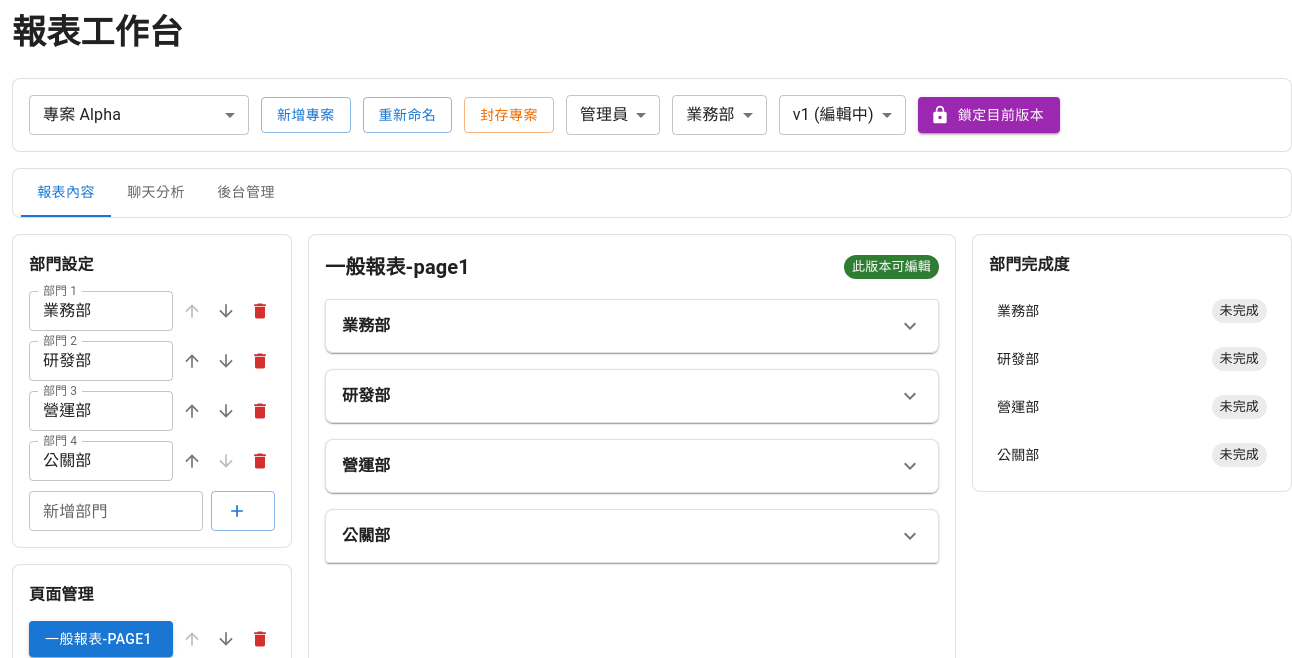
Scenario: ReportWorkspacePage backend management tab › allows admin to open and close sign-in, then disallows reopening normal sign-in
Click the tab "後台管理": (246, 193) left=201, top=169, right=291, bottom=217
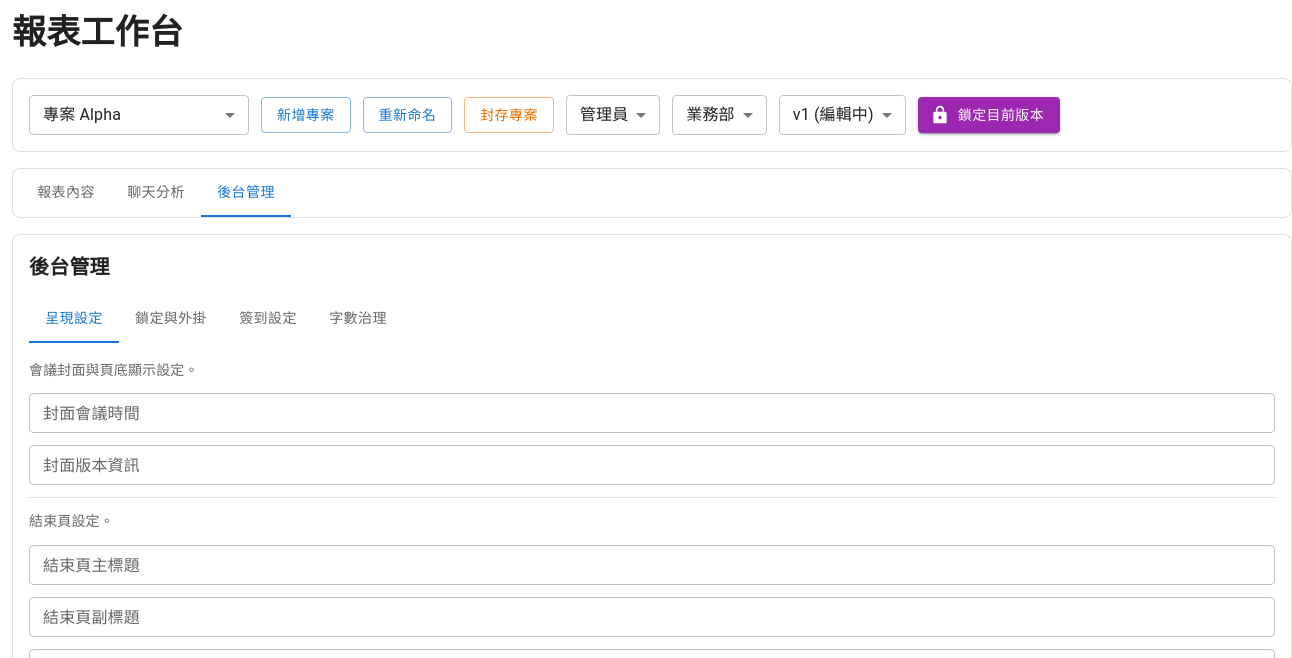
Click the tab "簽到設定": (268, 319) left=223, top=295, right=313, bottom=343
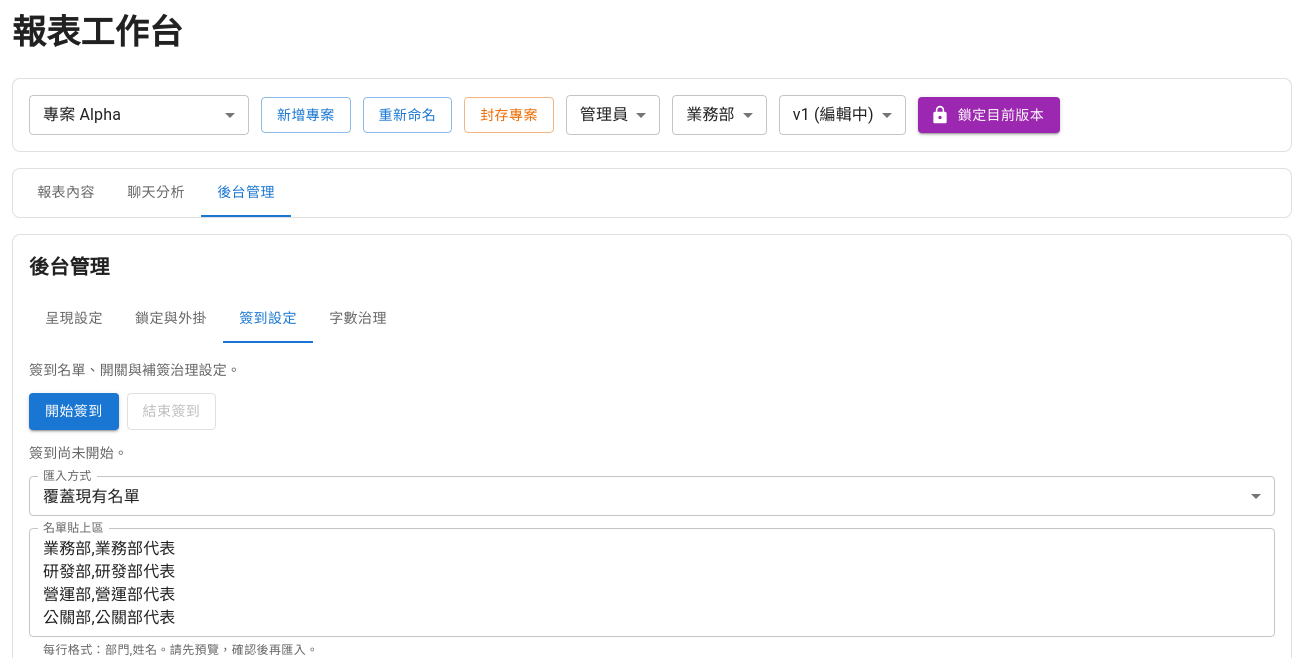
Click the button "開始簽到": (74, 412) left=29, top=393, right=119, bottom=430
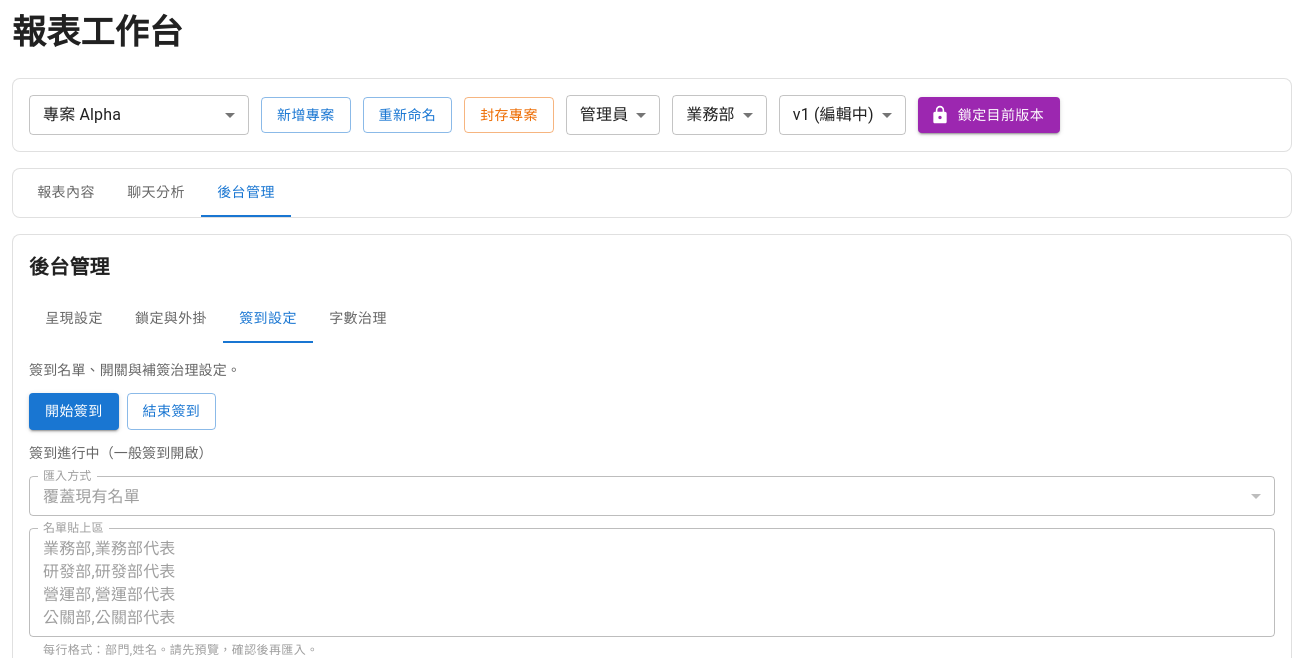
Expected: the text "簽到進行中（一般簽到開啟）" is shown, left=29, top=445, right=213, bottom=461
Click the button "結束簽到": (171, 412) left=127, top=393, right=216, bottom=430
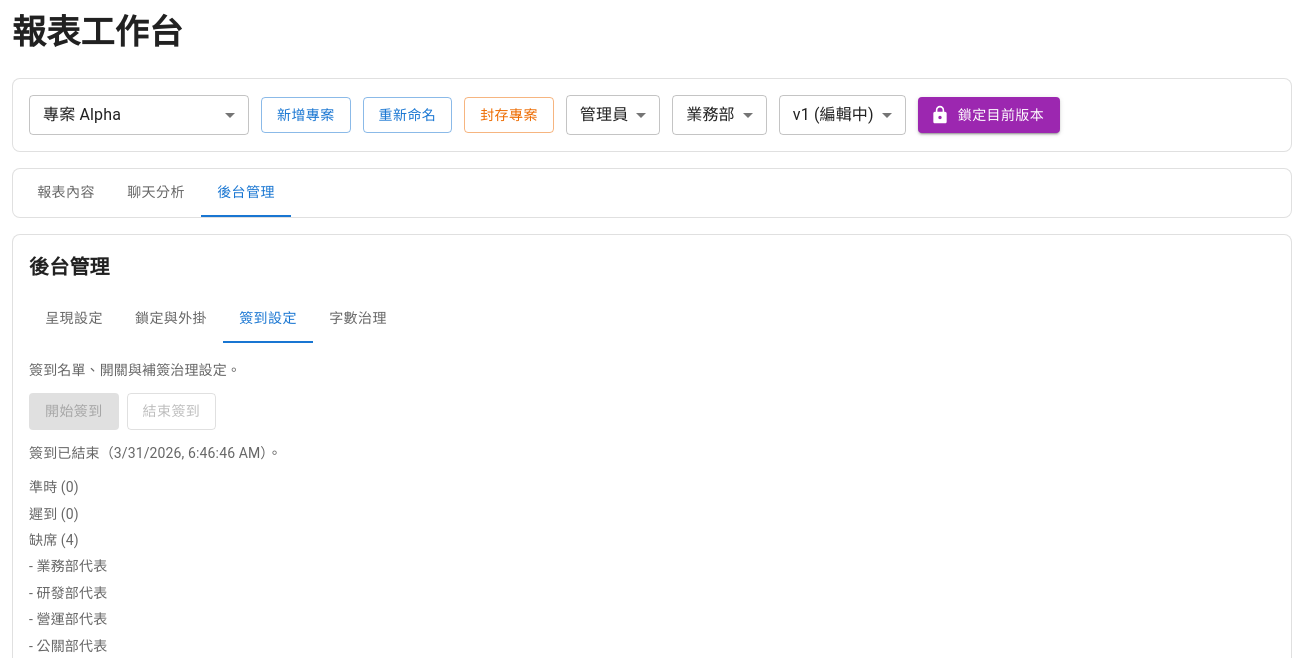
Expected: the text "簽到已結束（3/31/2026, 6:46:46 AM）。" is shown, left=29, top=445, right=282, bottom=461
Expected: the button "開始簽到" is disabled, left=29, top=393, right=119, bottom=430
